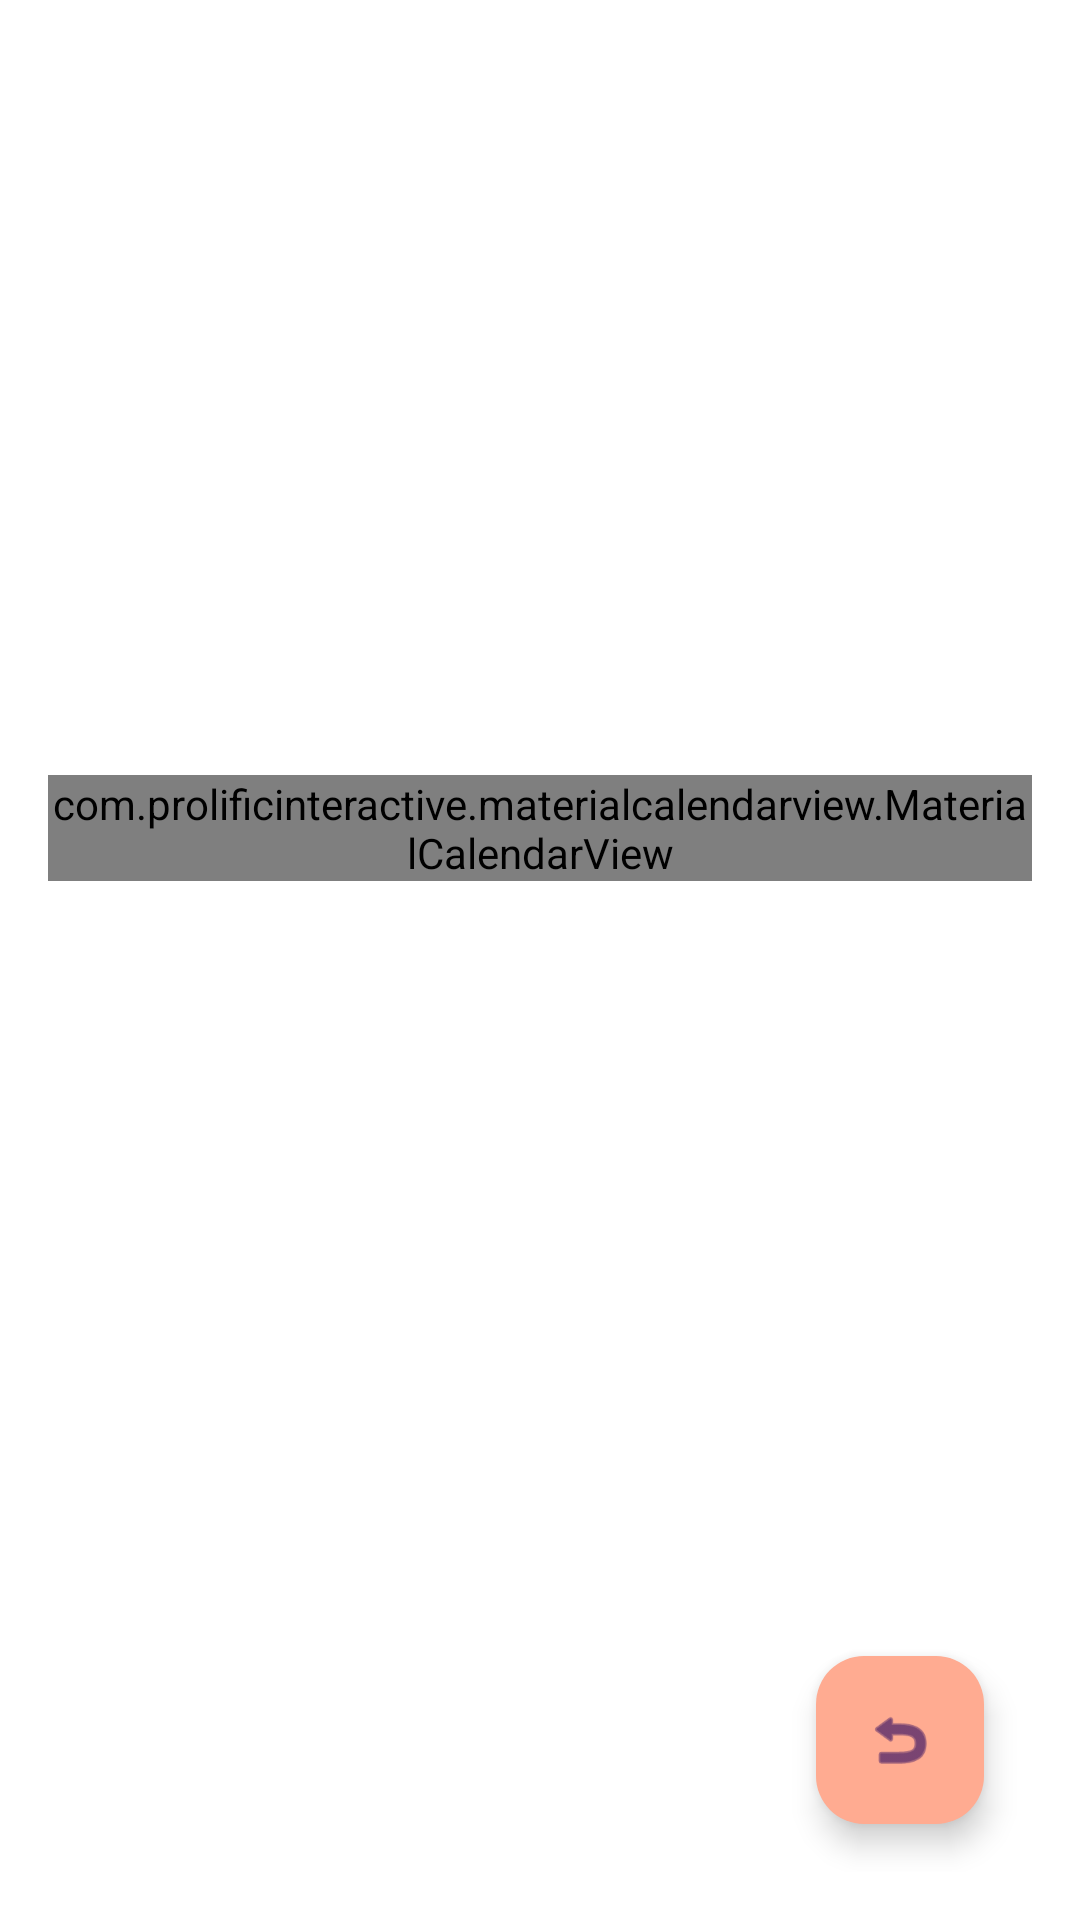

Point at icon controls on the screen. Image size 1080*1920, points as [x,y].
Go Back: [900,1740]
